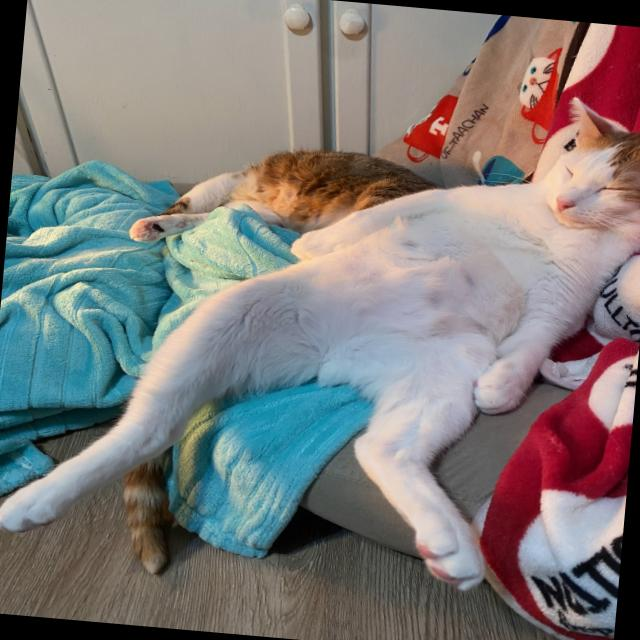cat1: (0, 50, 640, 605)
cat2: (121, 126, 454, 272)
